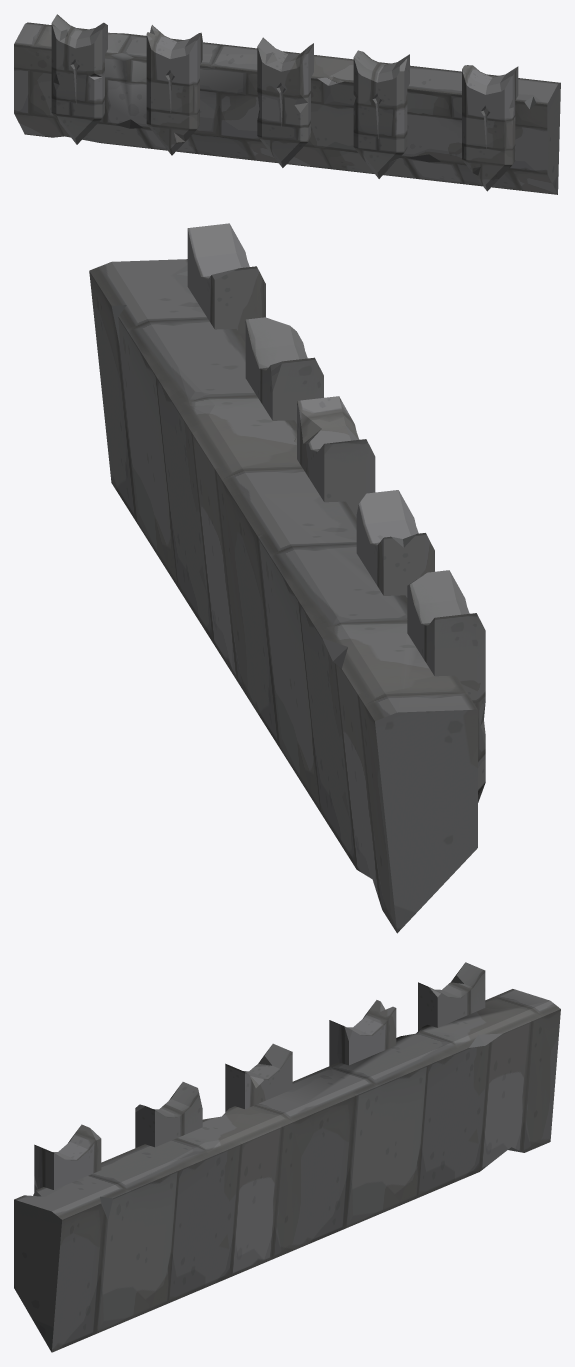
The model's file is SM_Bld_45_Battlements_01.fbx.
3 renders of one model, top to bottom at view 1: azimuth 30°, elevation 25°; view 2: azimuth 150°, elevation 25°; view 3: azimuth 270°, elevation 25°, orthographic. The views are drawn at different scales.
Visible parts, largest first — view 1: SM_Bld_45_Battlements_01; view 2: SM_Bld_45_Battlements_01; view 3: SM_Bld_45_Battlements_01.
Boxes of the visible parts, x1,y1,x2,y2 form: SM_Bld_45_Battlements_01: (14,14,560,194); SM_Bld_45_Battlements_01: (89,223,485,933); SM_Bld_45_Battlements_01: (14,962,560,1352).
Size of the model in its own units: 561 by 199 by 561.
Materials: 1 (1 with a texture image).
